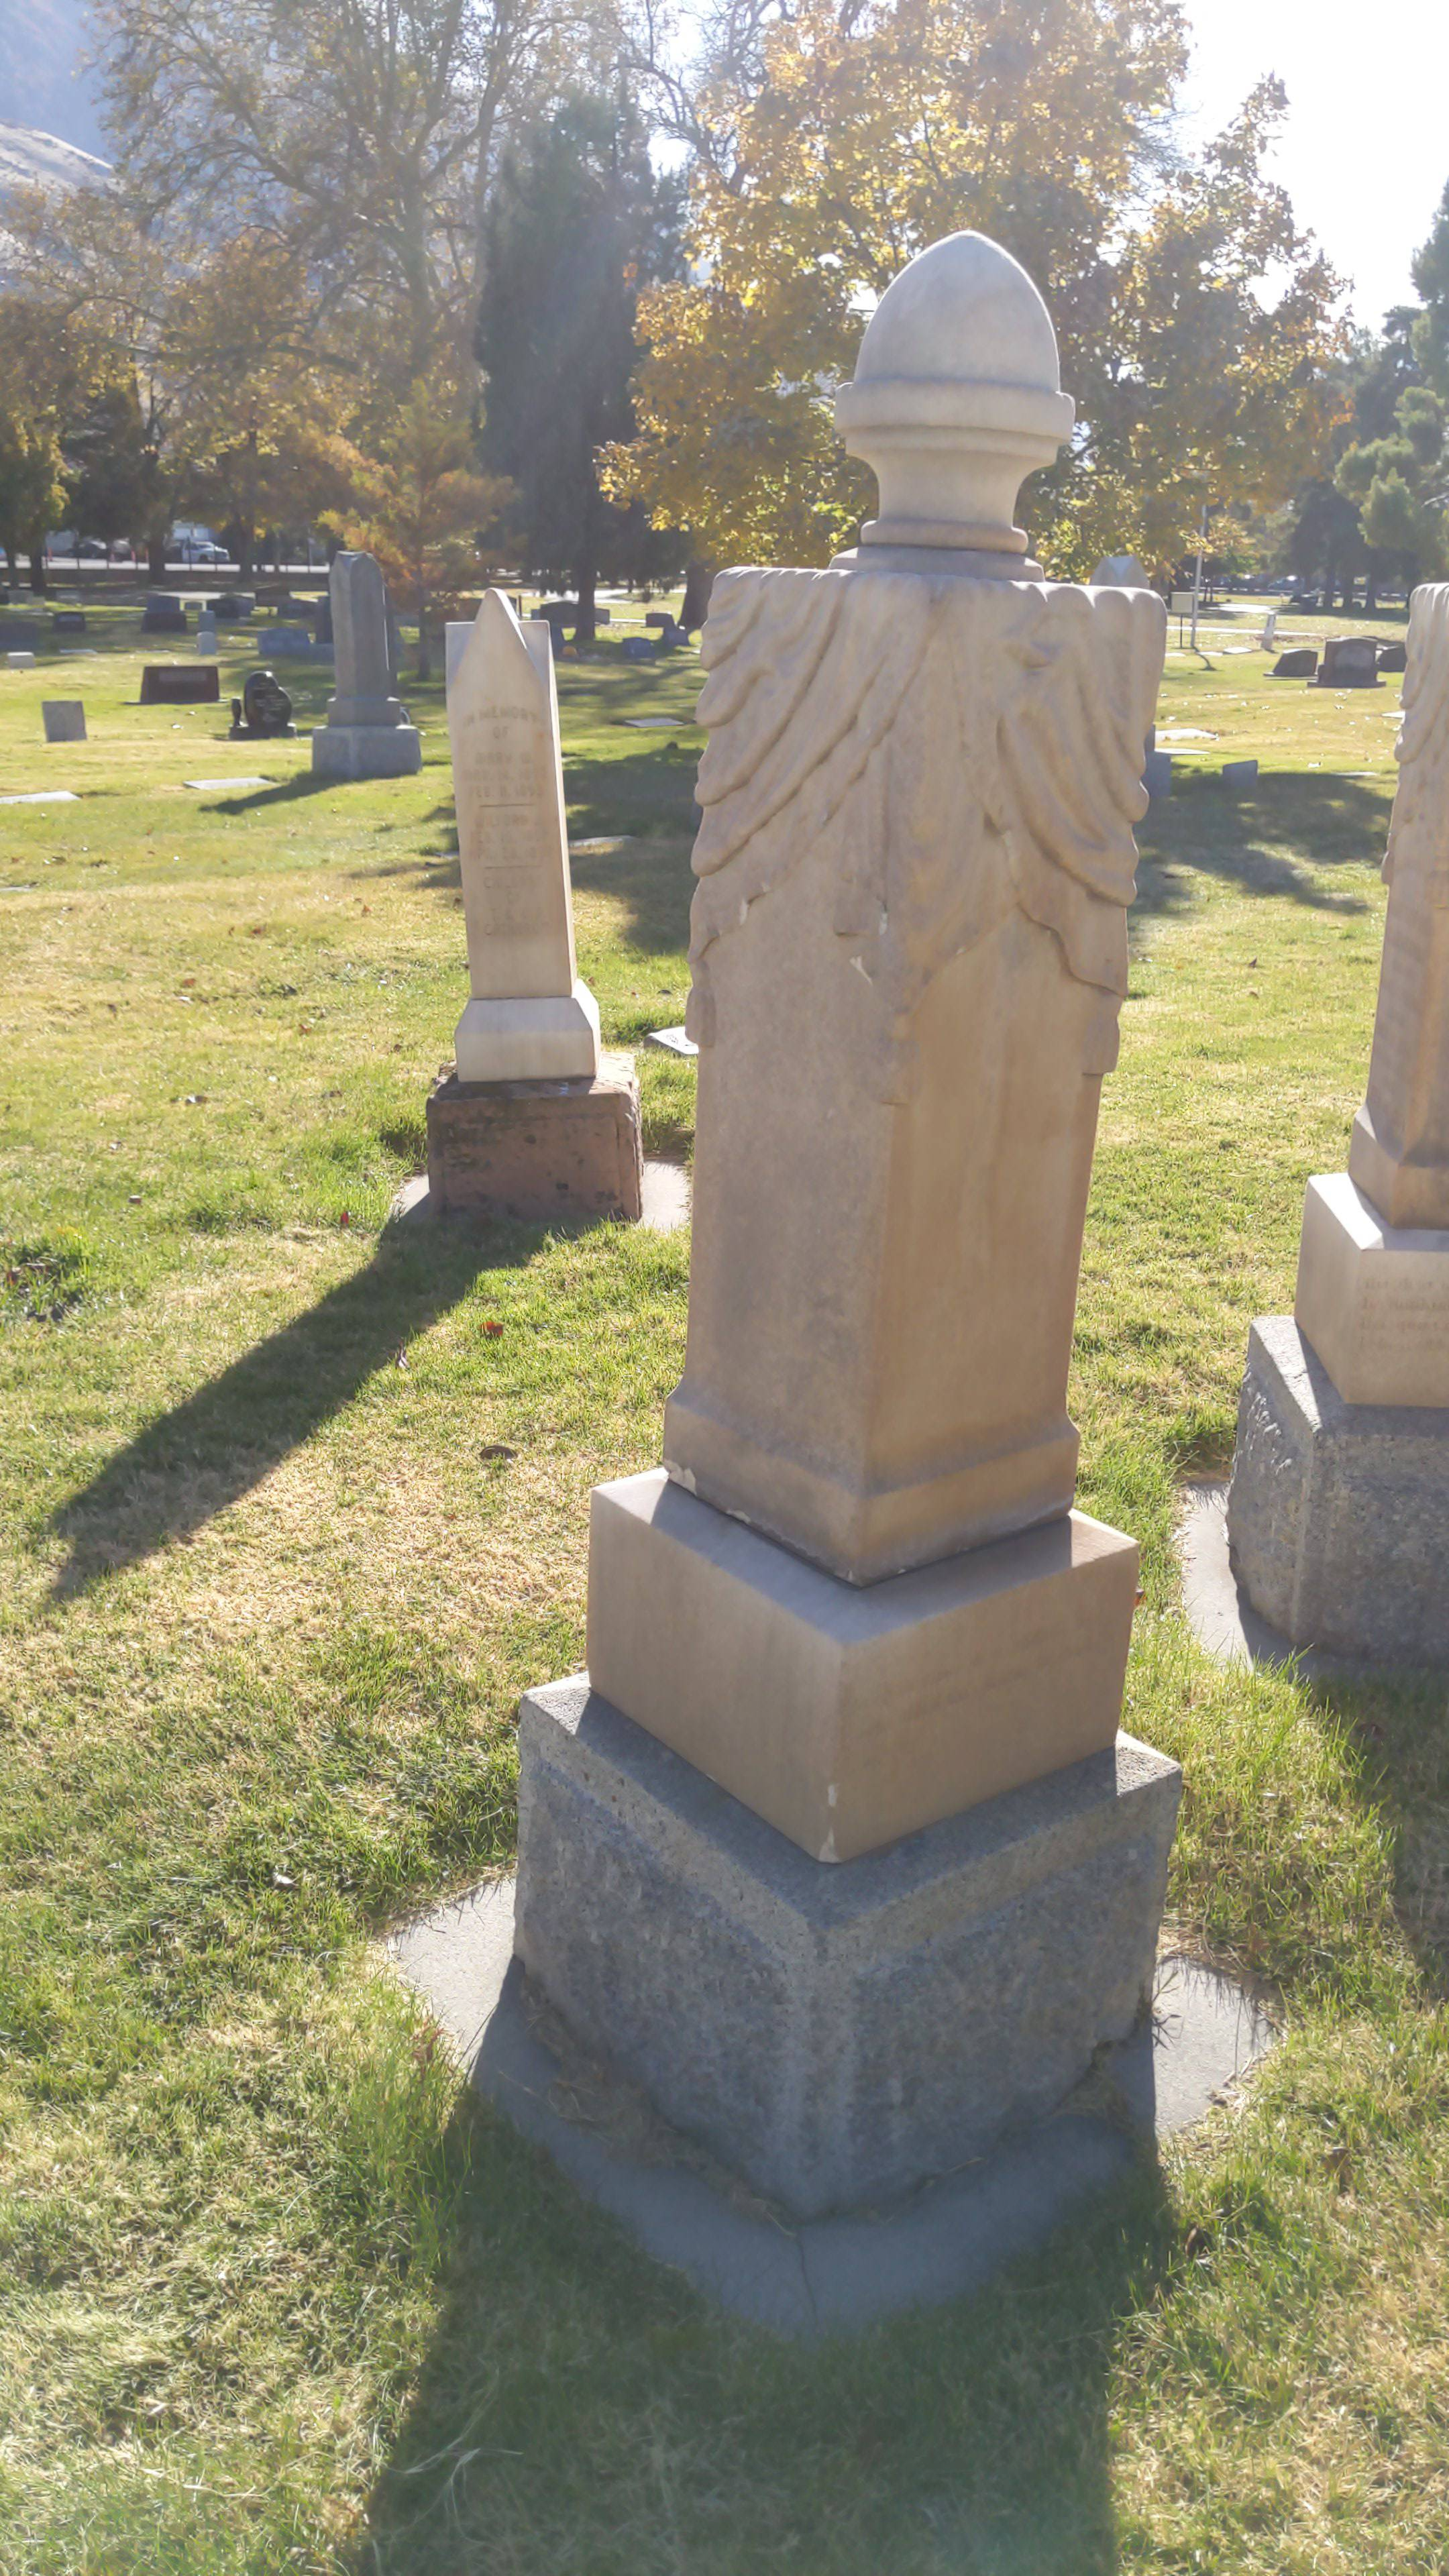obelisk: (589, 237, 1131, 1852)
